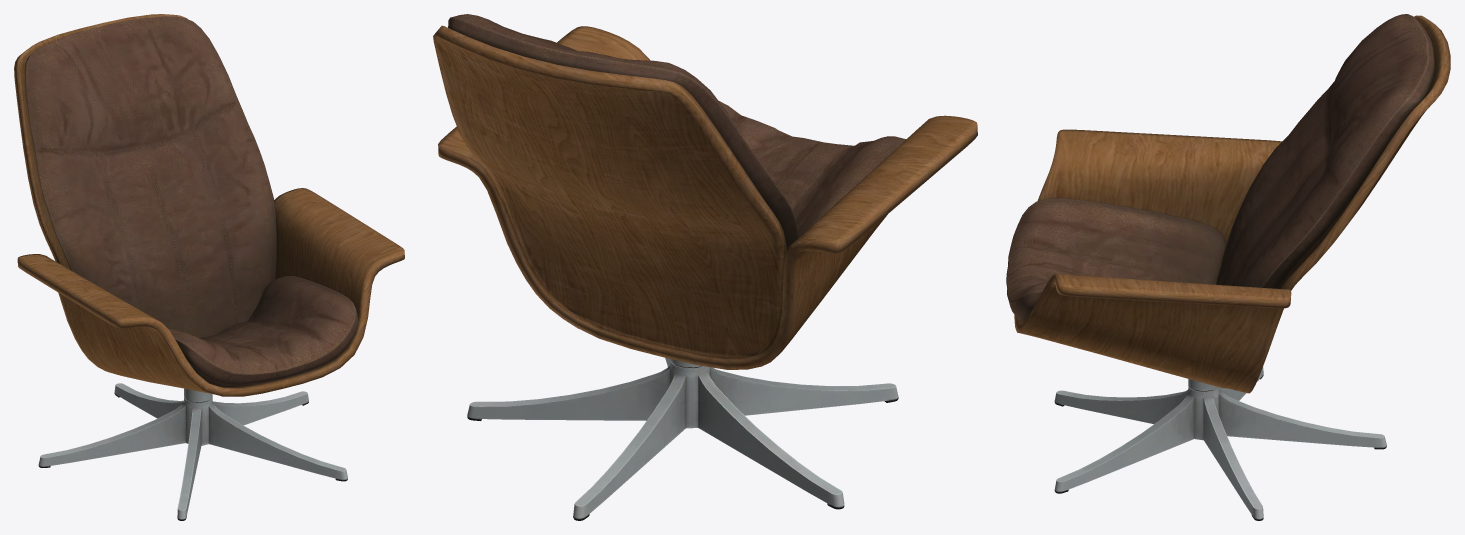
The model's file is mid_century_lounge_chair.glb.
3 views of the same model, side by side, from view 1: azimuth 30°, elevation 25°; view 2: azimuth 150°, elevation 25°; view 3: azimuth 270°, elevation 25° (orthographic). The views are drawn at different scales.
Parts seen in each view (by area): view 1: mid_century_lounge_chair; view 2: mid_century_lounge_chair; view 3: mid_century_lounge_chair.
Part boxes in pixels (x1=…): mid_century_lounge_chair: x1=14, y1=14, x2=404, y2=520; mid_century_lounge_chair: x1=433, y1=14, x2=977, y2=520; mid_century_lounge_chair: x1=1006, y1=14, x2=1450, y2=520.
Bounding box in the file's own units: 1.01 × 1.17 × 1.19.
Materials: 1 (1 with a texture image).
